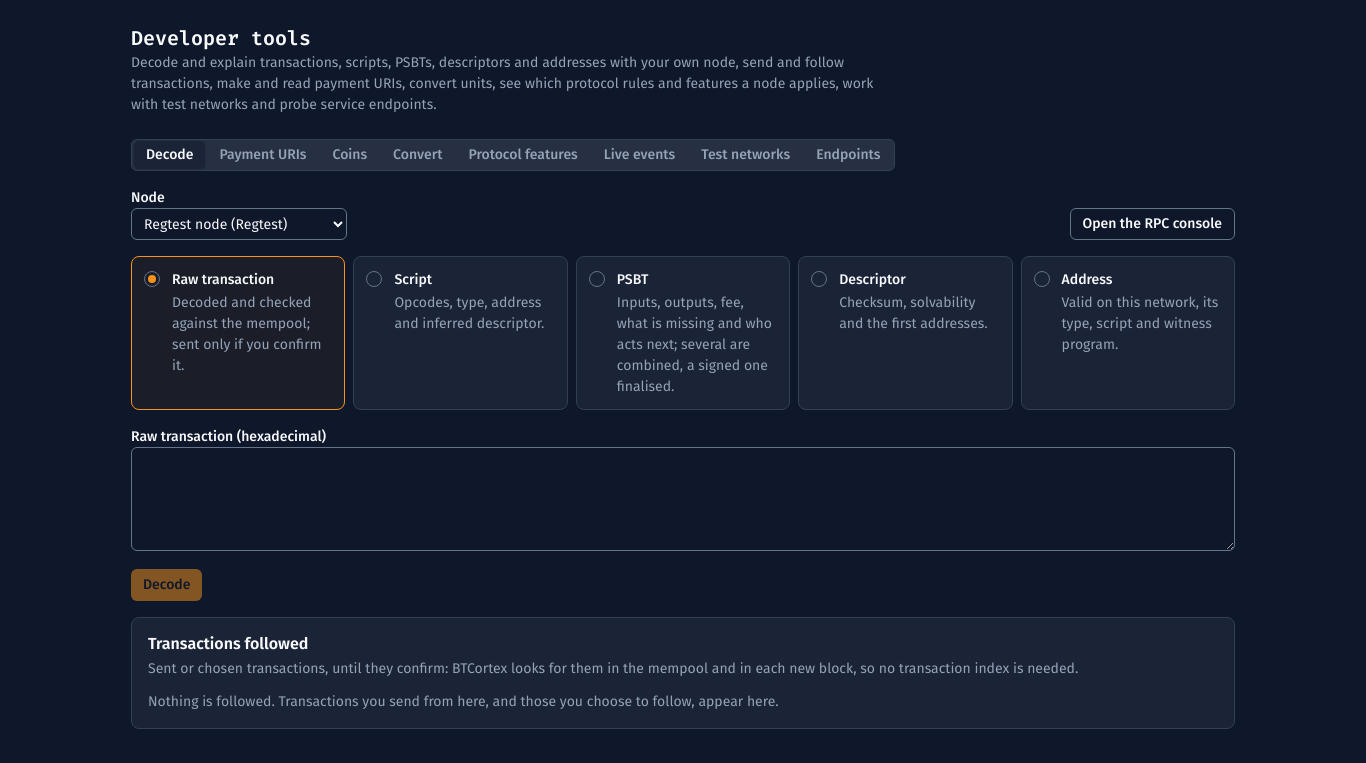
Test: Developer tools › decodes a PSBT with the chosen node and shows what it still needs
Click the radio button labelled "PSBT" at [683, 333], box [576, 256, 790, 410]
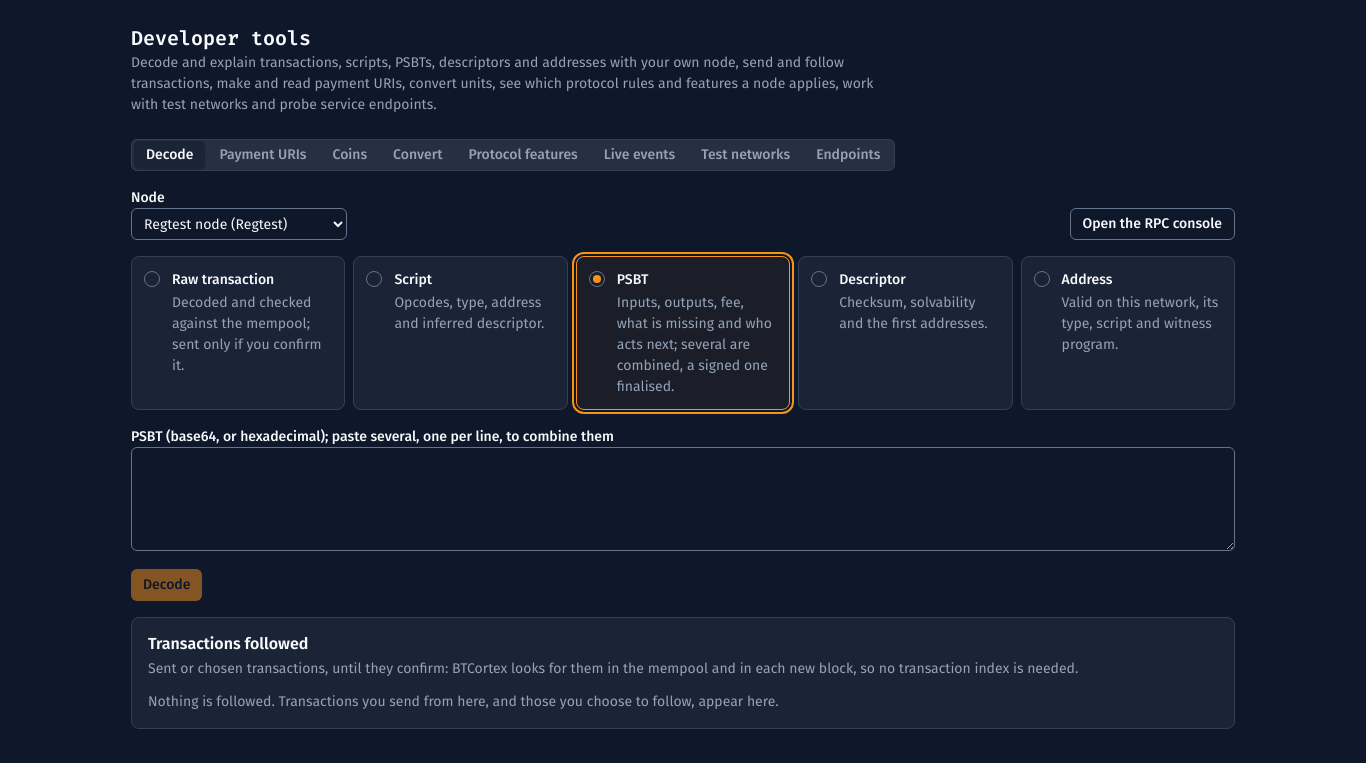
Type "cHNidP8BAH0CAAAAAQ" into the text box labelled "PSBT (base64, or hexadecimal)" at [683, 499], box [131, 447, 1235, 551]
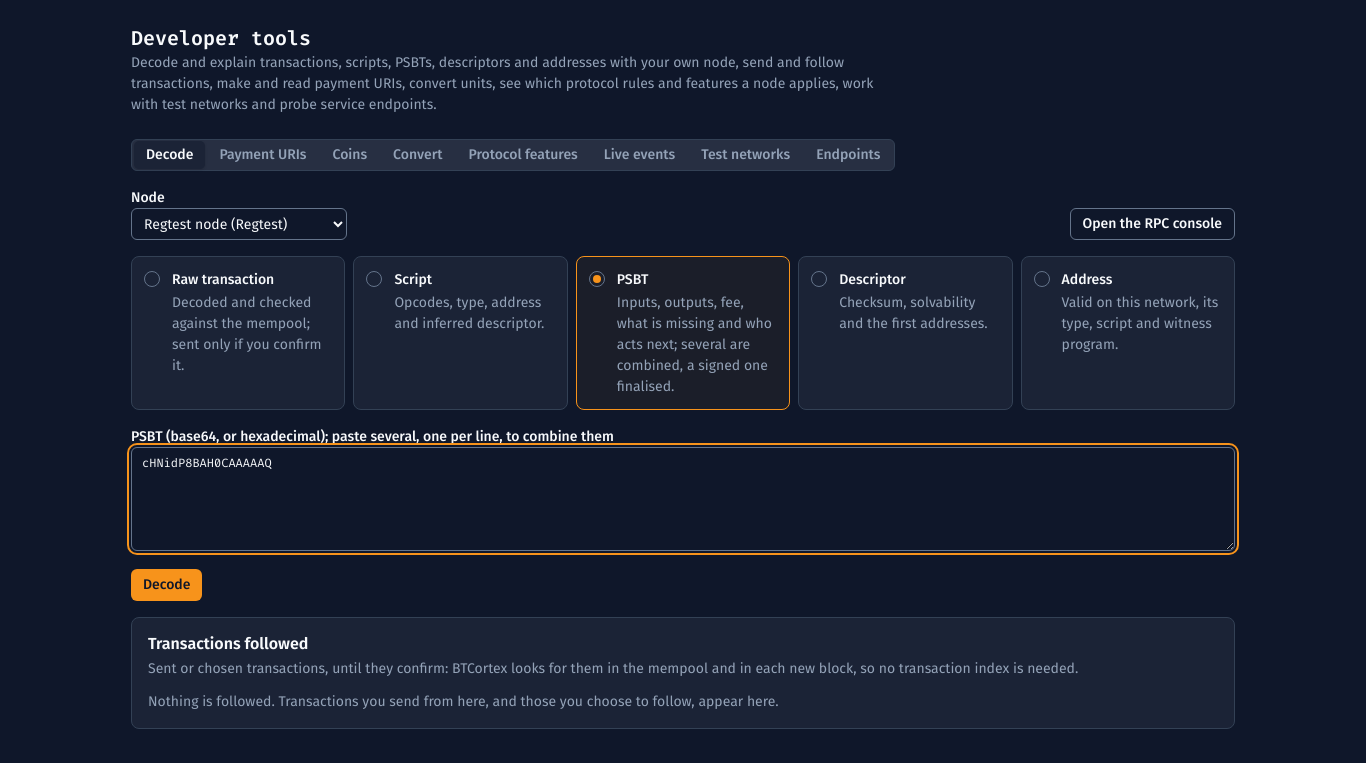
Click the button "Decode" at [167, 585], box [131, 569, 202, 601]
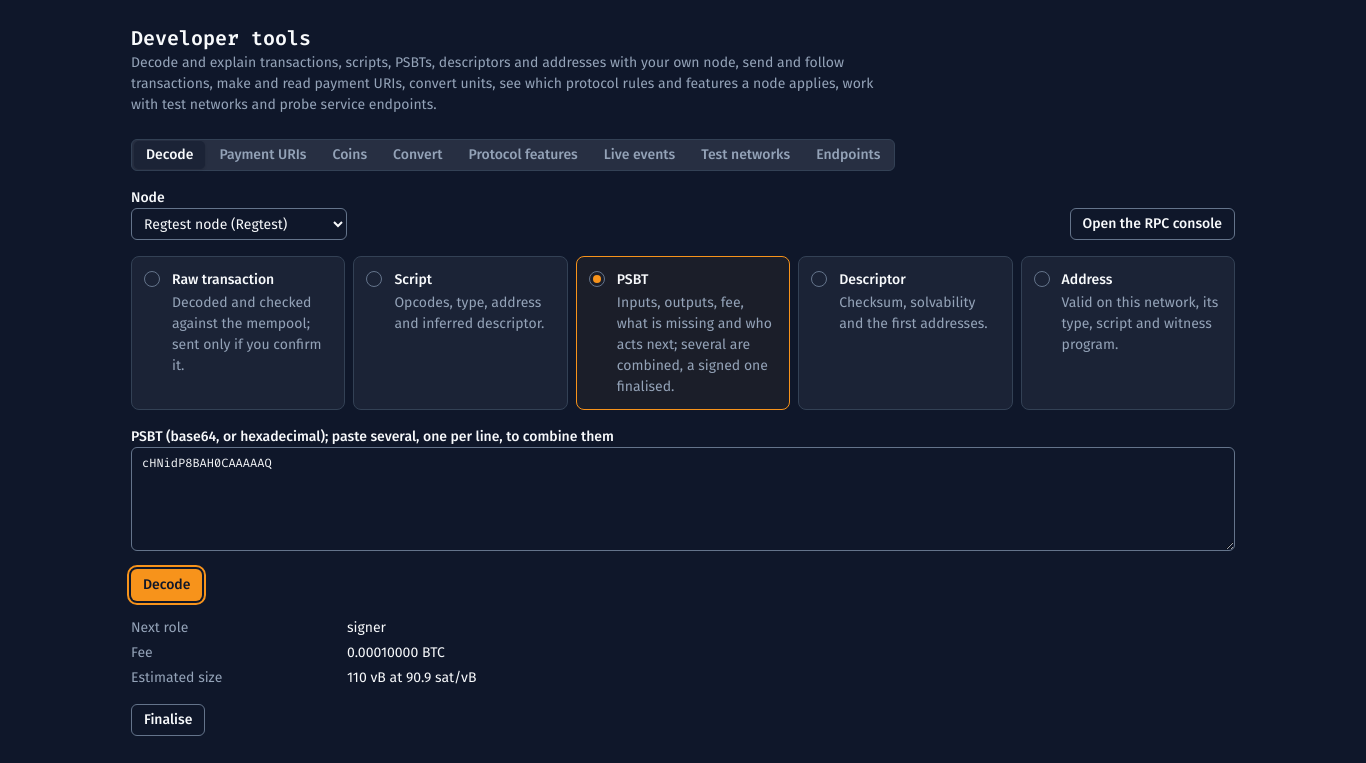
Expected: the text "signer" is shown, [347, 619, 386, 636]
